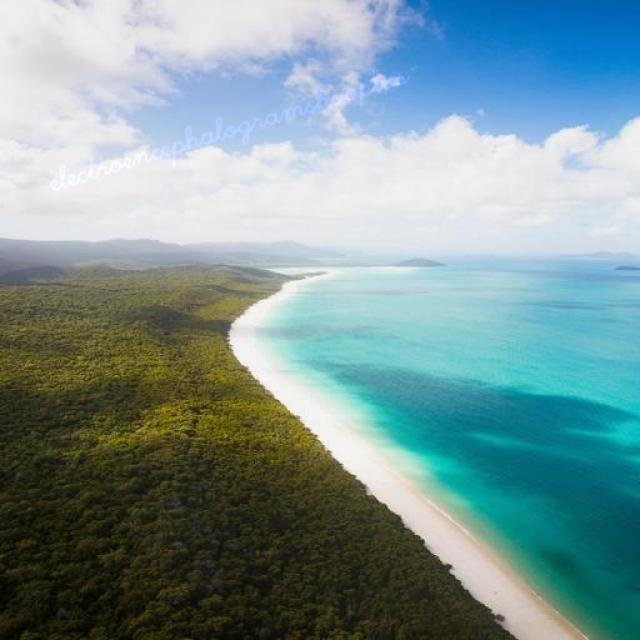watermark: (44, 56, 410, 196)
